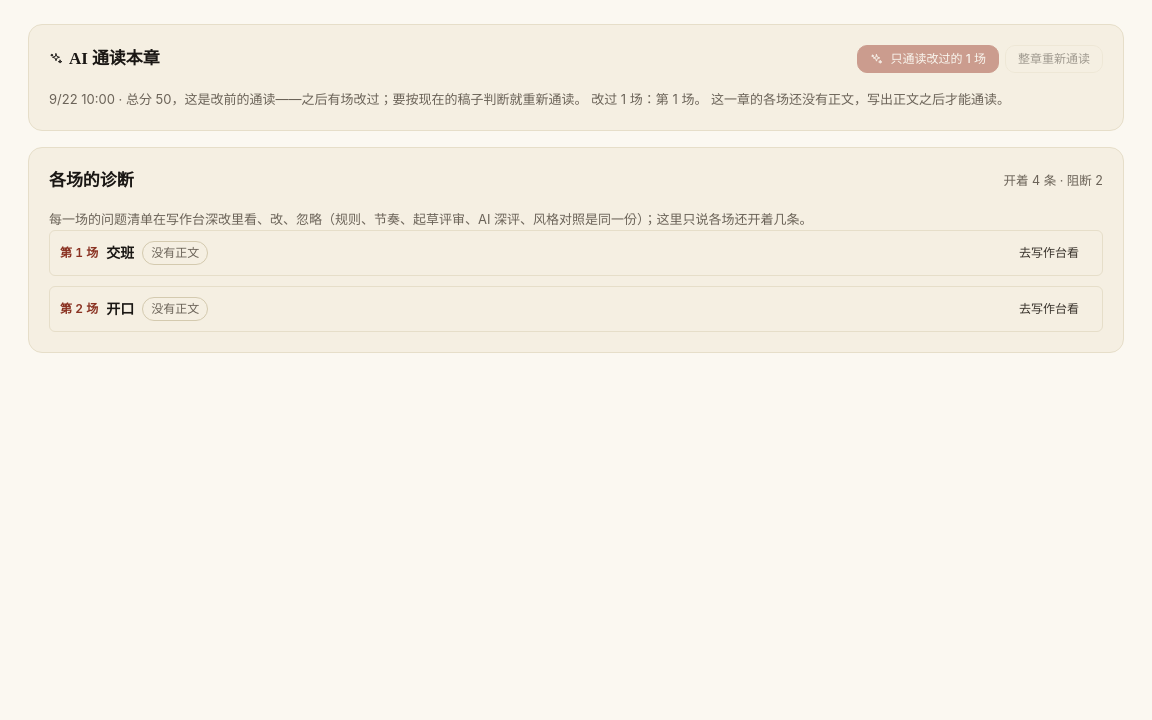
成稿中心 · 诊断页签 › 各场都还没有正文时两个通读按钮都不可点（后端对它回 409 且不调模型），并说一句为什么；有一场有正文就能点
Check: the button with test id "chapter-deep-review-run-changed" is disabled, box [857,45,999,73]
What coordinates should you click on to do the following:
click the button with test id "chapter-deep-review-run"
I would click on:
 (1054, 59)
Its box is [1005,45,1103,73].
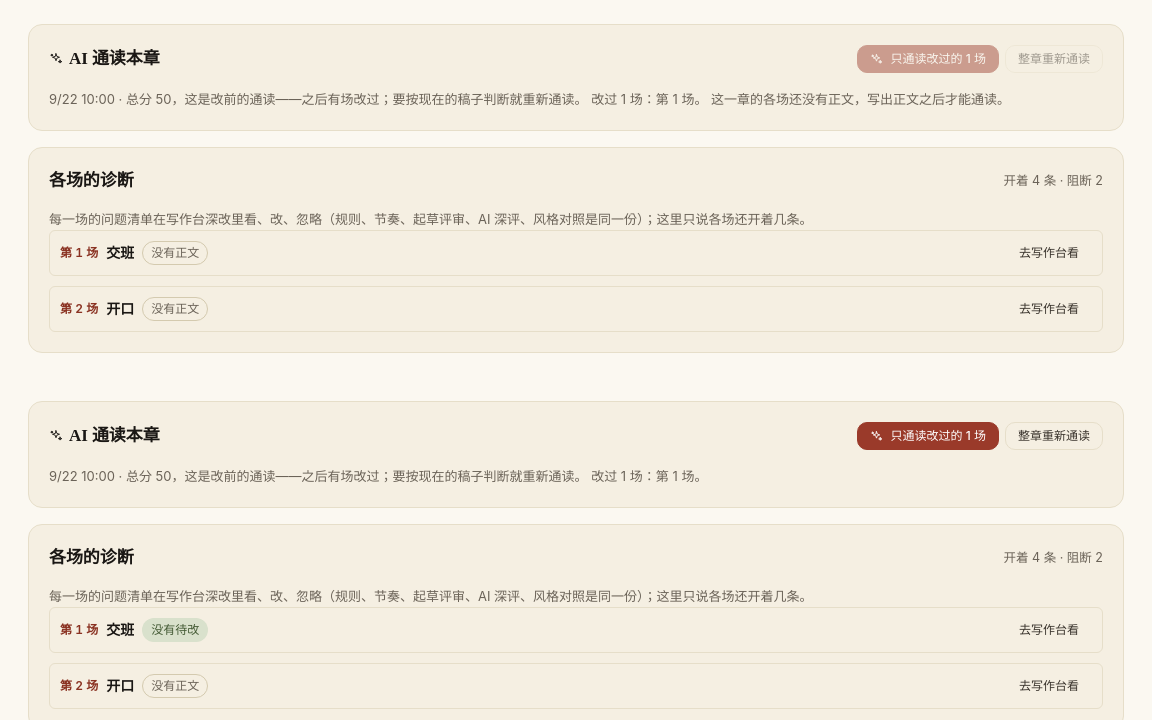
Check: the 2nd button with test id "chapter-deep-review-run" is enabled, box [1005,422,1103,450]
